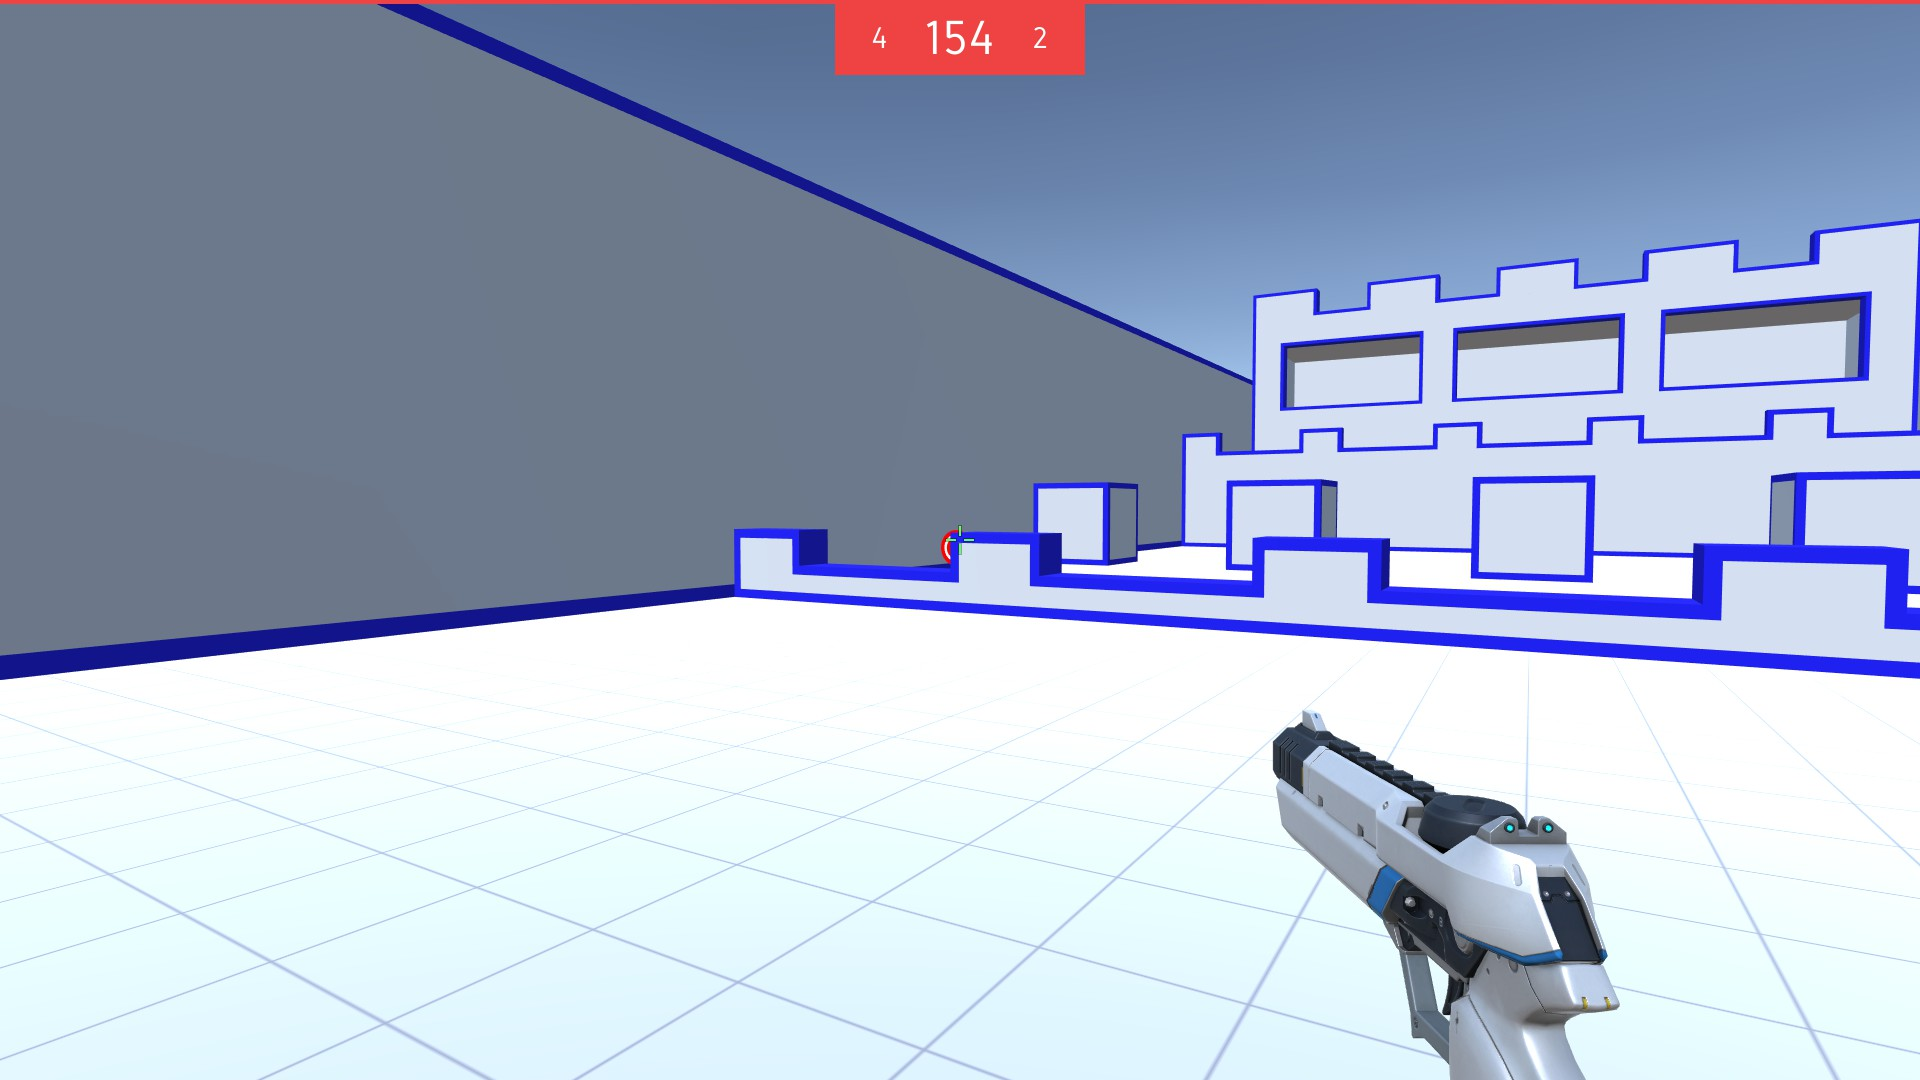target: (939, 529, 960, 563)
